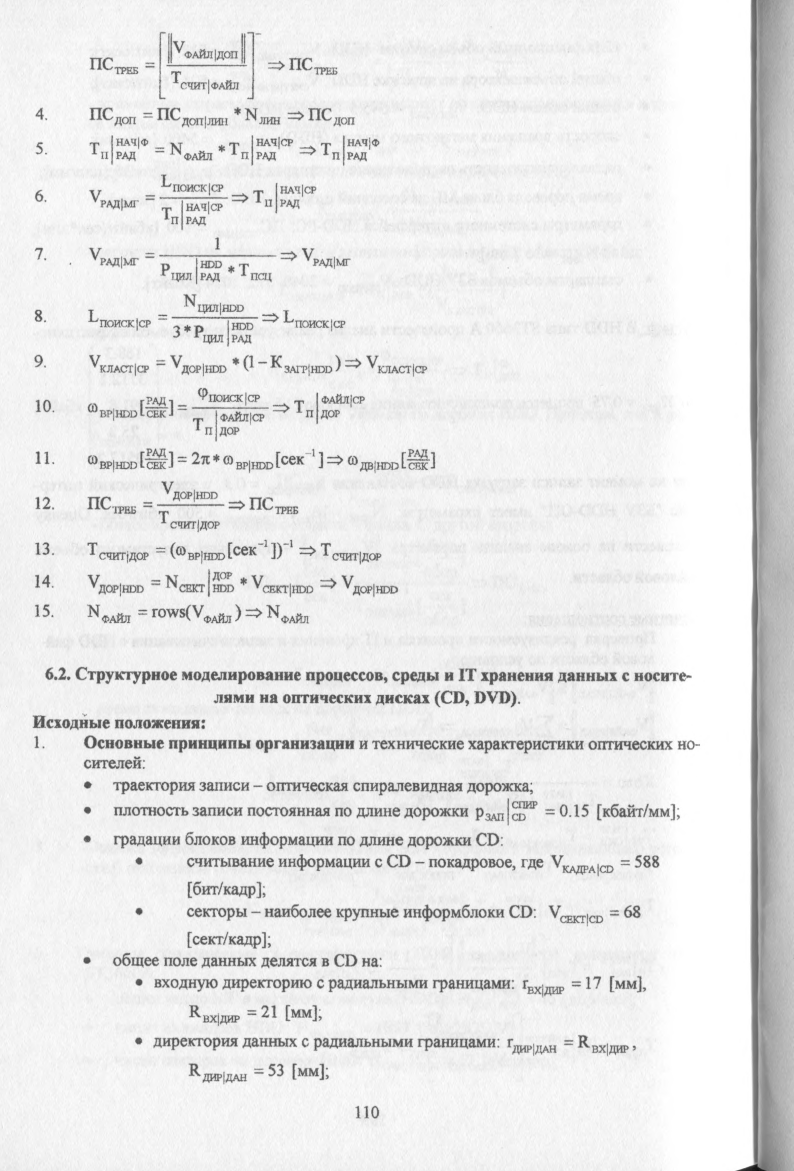φ.поиск.ср: (195, 386, 264, 404)
